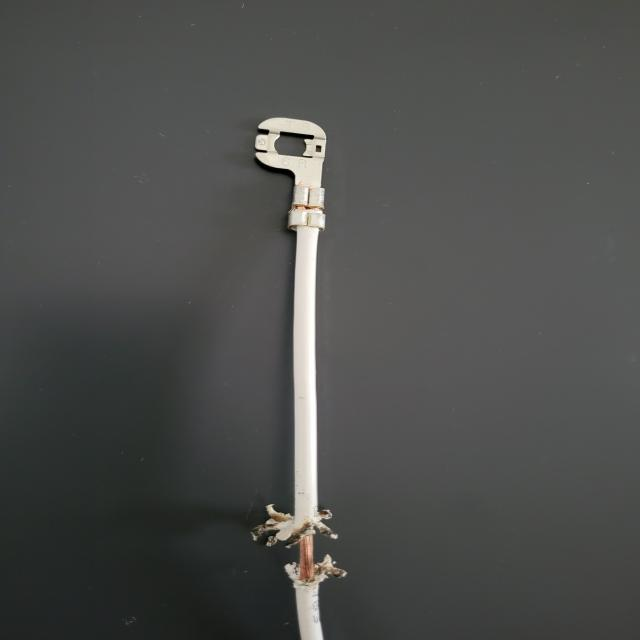defect: (177, 467, 470, 640)
